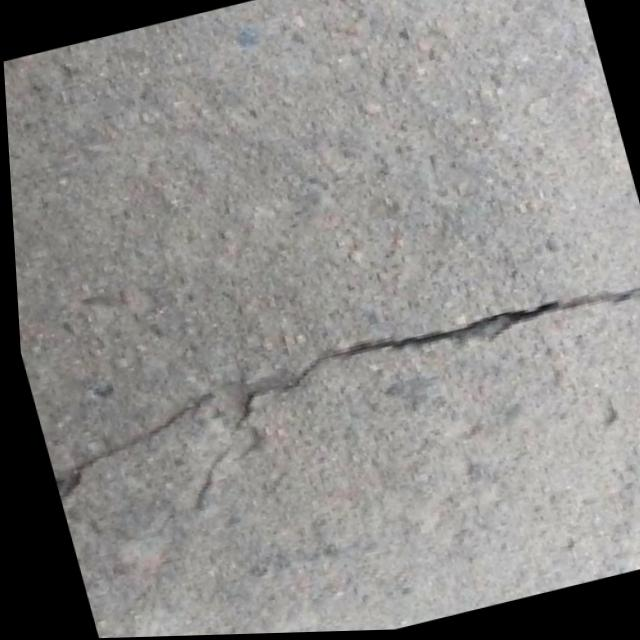Crack: (24, 260, 640, 496)
